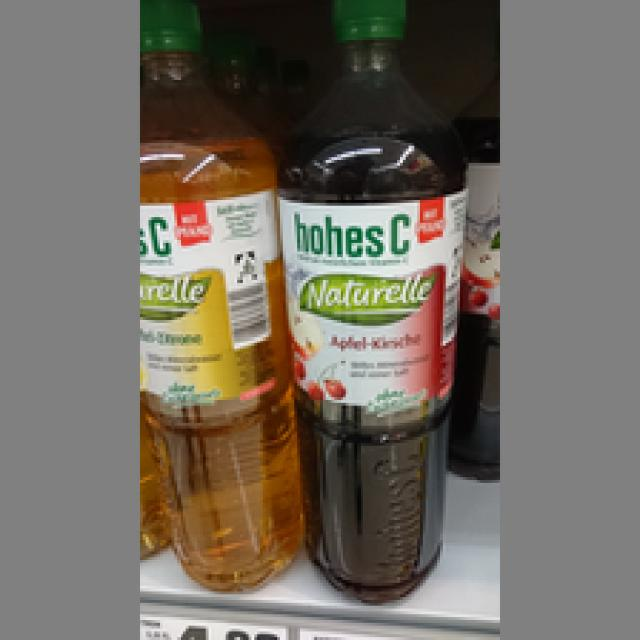groceries: (277, 0, 466, 600), (140, 0, 309, 589)
